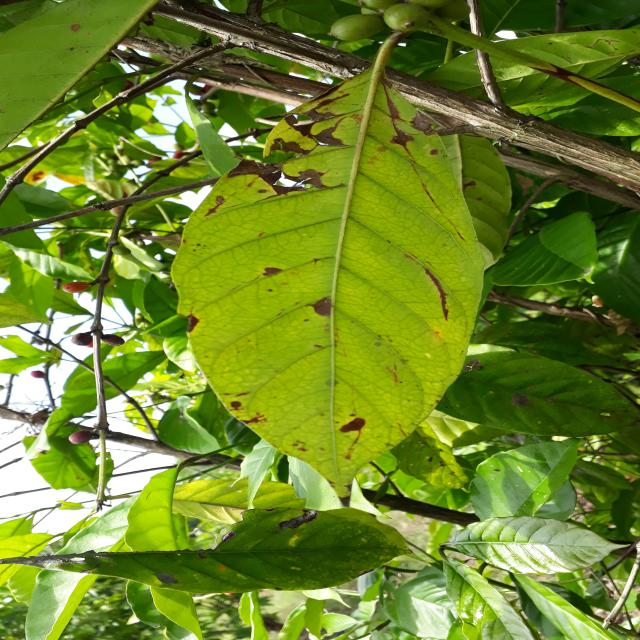Enfermedad-Roya: (169, 42, 512, 499)
